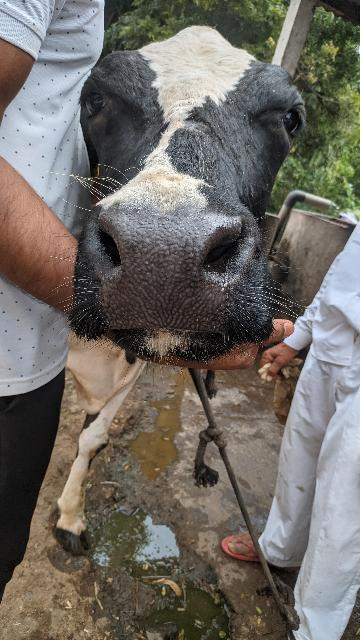Muzzle: (98, 205, 232, 347)
